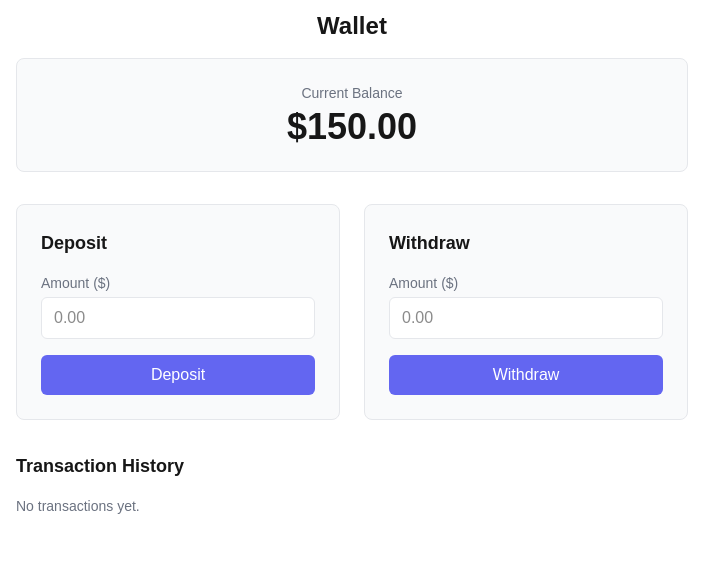
Test: WalletPage › shows insufficient balance error with current balance
Type "999" into the 2nd number field labelled "Amount ($)" at (526, 318), box x1=389 y1=297 x2=663 y2=339
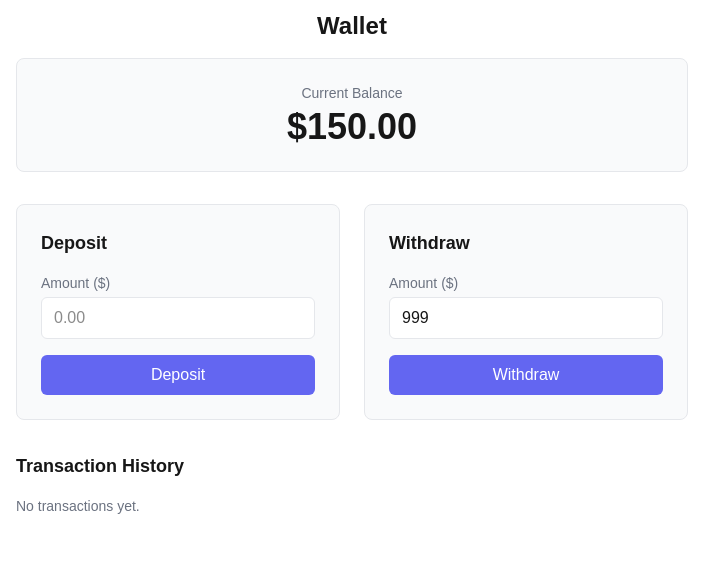
Click the button "Withdraw" at (526, 375), box x1=389 y1=355 x2=663 y2=395
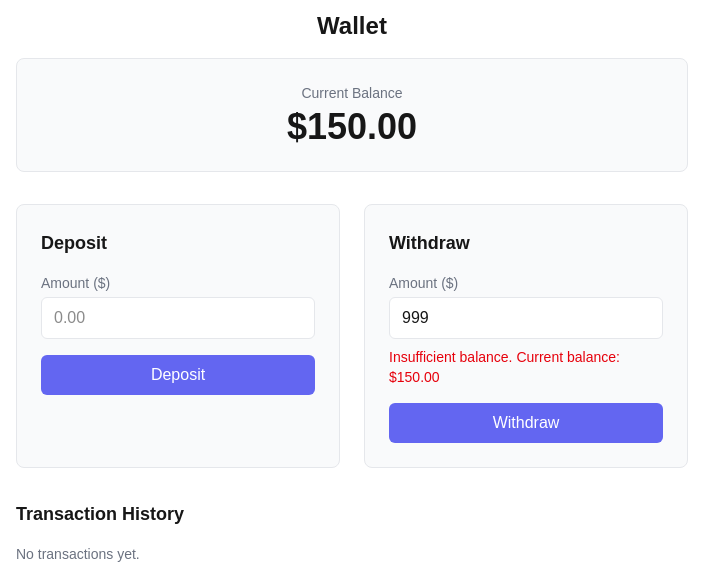
Expected: the text "Insufficient balance. Current balance: $150.00" is shown, x1=389 y1=349 x2=620 y2=385
